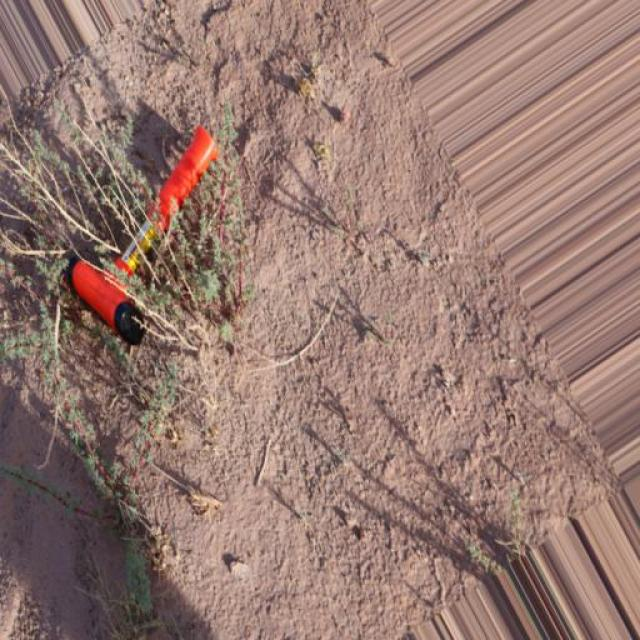mallet: (60, 122, 219, 346)
